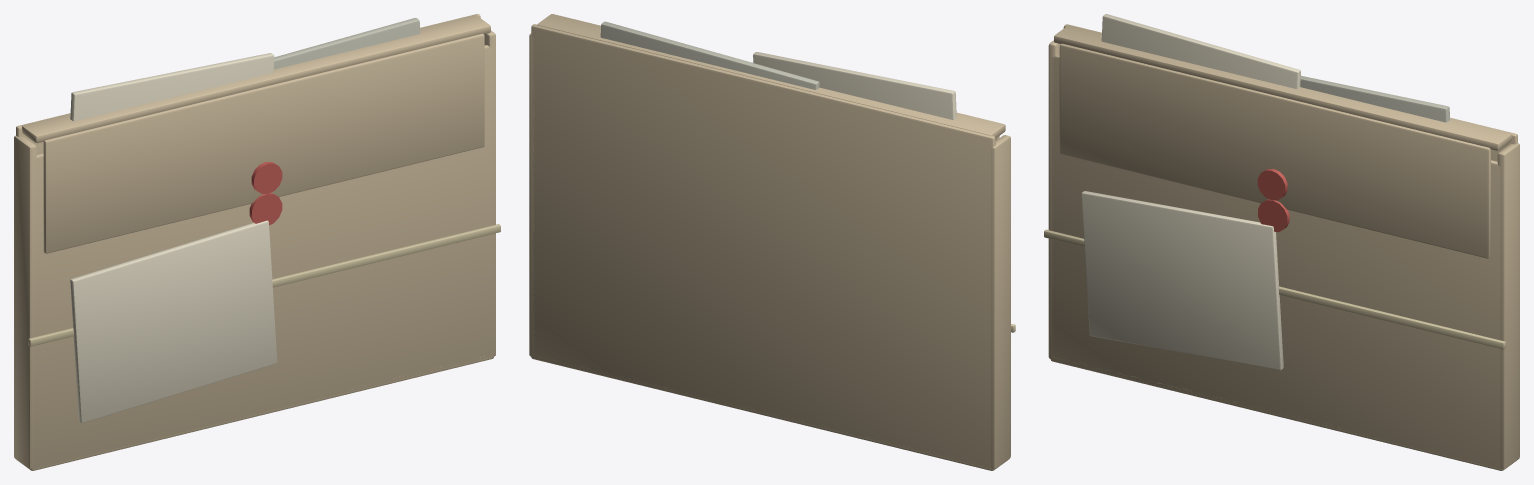
File: CTCC_PROP_EnvelopeInteractive.fbx
The picture shows the model from 3 angles, left to right: view 1: azimuth 30°, elevation 25°; view 2: azimuth 150°, elevation 25°; view 3: azimuth 330°, elevation 25°; orthographic projection. The views are drawn at different scales.
Parts seen in each view (by area): view 1: EnvelopeBody, EnvelopeFlap, EnvSlot_BayNote, EnvSlot_LanLetter, EnvSlot_Newspaper; view 2: EnvelopeBody, EnvSlot_LanLetter, EnvelopeFlap, EnvSlot_Newspaper; view 3: EnvelopeBody, EnvelopeFlap, EnvSlot_BayNote, EnvSlot_LanLetter, EnvSlot_Newspaper.
Part boxes in pixels (x1,y1,x2,y2): EnvelopeBody: (14, 14, 500, 470); EnvelopeFlap: (22, 15, 490, 253); EnvSlot_BayNote: (70, 220, 277, 423); EnvSlot_LanLetter: (70, 53, 274, 121); EnvSlot_Newspaper: (273, 18, 420, 69); EnvelopeBody: (529, 24, 1015, 470); EnvSlot_LanLetter: (753, 52, 956, 119); EnvelopeFlap: (537, 14, 1005, 140); EnvSlot_Newspaper: (600, 21, 819, 89); EnvelopeBody: (1044, 24, 1519, 470); EnvelopeFlap: (1054, 25, 1512, 258); EnvSlot_BayNote: (1081, 191, 1283, 370); EnvSlot_LanLetter: (1101, 14, 1300, 88); EnvSlot_Newspaper: (1300, 76, 1449, 122).
Size of the model in its own units: 0.244 by 0.1792 by 0.0193.
